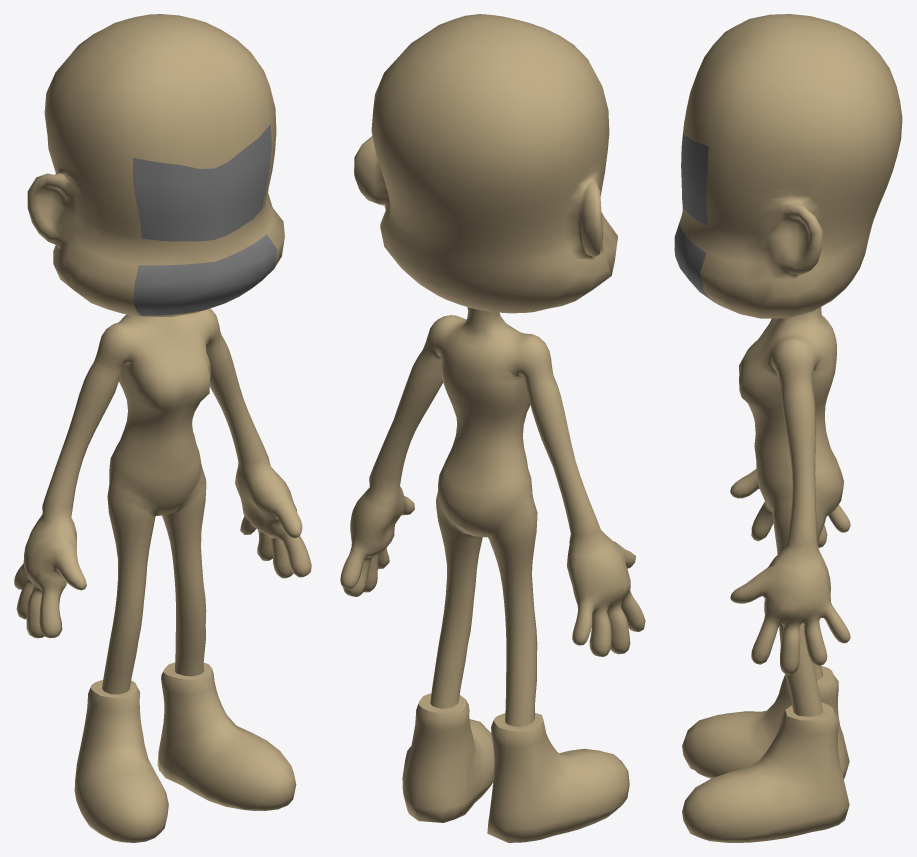
The model's file is Droyz_Girl_newMesh.fbx.
3 views of the same model, side by side, from view 1: azimuth 30°, elevation 25°; view 2: azimuth 150°, elevation 25°; view 3: azimuth 270°, elevation 25° (orthographic). The views are drawn at different scales.
Parts seen in each view (by area): view 1: female, eyes&mouth; view 2: female; view 3: female, eyes&mouth.
Part boxes in pixels (x1,y1,x2,y2): female: (14, 14, 311, 842); eyes&mouth: (132, 124, 277, 315); female: (340, 14, 645, 842); female: (679, 14, 902, 842); eyes&mouth: (674, 121, 721, 306).
Size of the model in its own units: 55.35 by 150 by 40.12.
